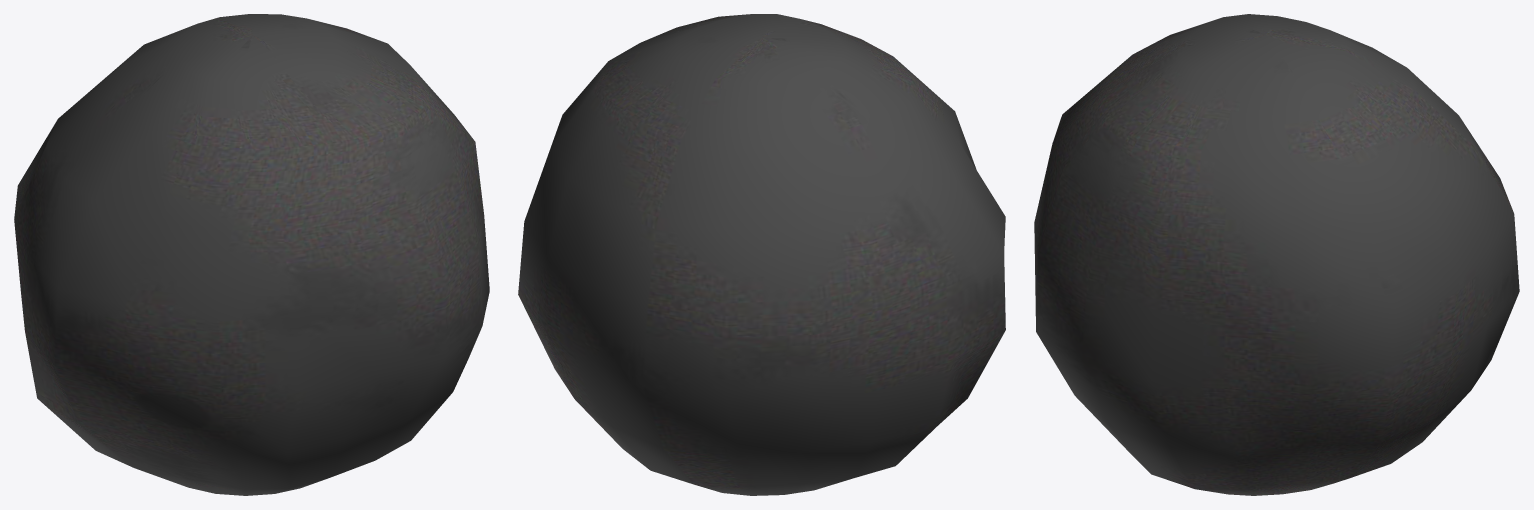
File: Cailloux.FBX
The picture shows the model from 3 angles, left to right: view 1: azimuth 30°, elevation 25°; view 2: azimuth 150°, elevation 25°; view 3: azimuth 270°, elevation 25°; orthographic projection.
Parts seen in each view (by area): view 1: Sphere001; view 2: Sphere001; view 3: Sphere001.
Part boxes in pixels (bbox=[...]): Sphere001: bbox=[14, 14, 489, 495]; Sphere001: bbox=[518, 14, 1005, 495]; Sphere001: bbox=[1034, 14, 1519, 495].
Size of the model in its own units: 28.33 by 28.1 by 27.98.
